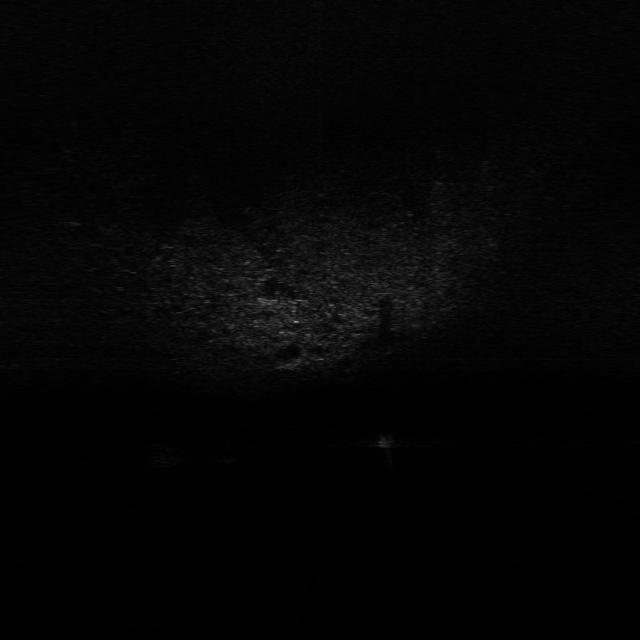circle cage: (147, 443, 188, 469)
cylinder: (376, 435, 400, 465)
